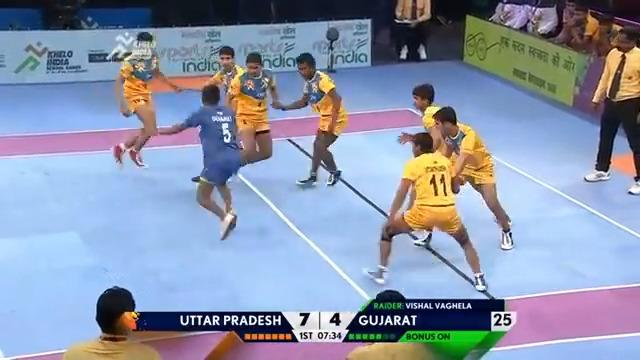Player: (364, 131, 488, 293), (398, 105, 514, 250), (106, 30, 184, 169), (270, 51, 348, 187), (225, 51, 279, 168), (202, 45, 245, 104)
Raider: (153, 83, 242, 240)
referee: (583, 25, 639, 194), (61, 285, 163, 359)
